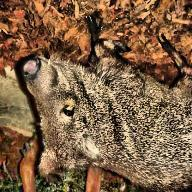boar: (18, 25, 192, 192)
